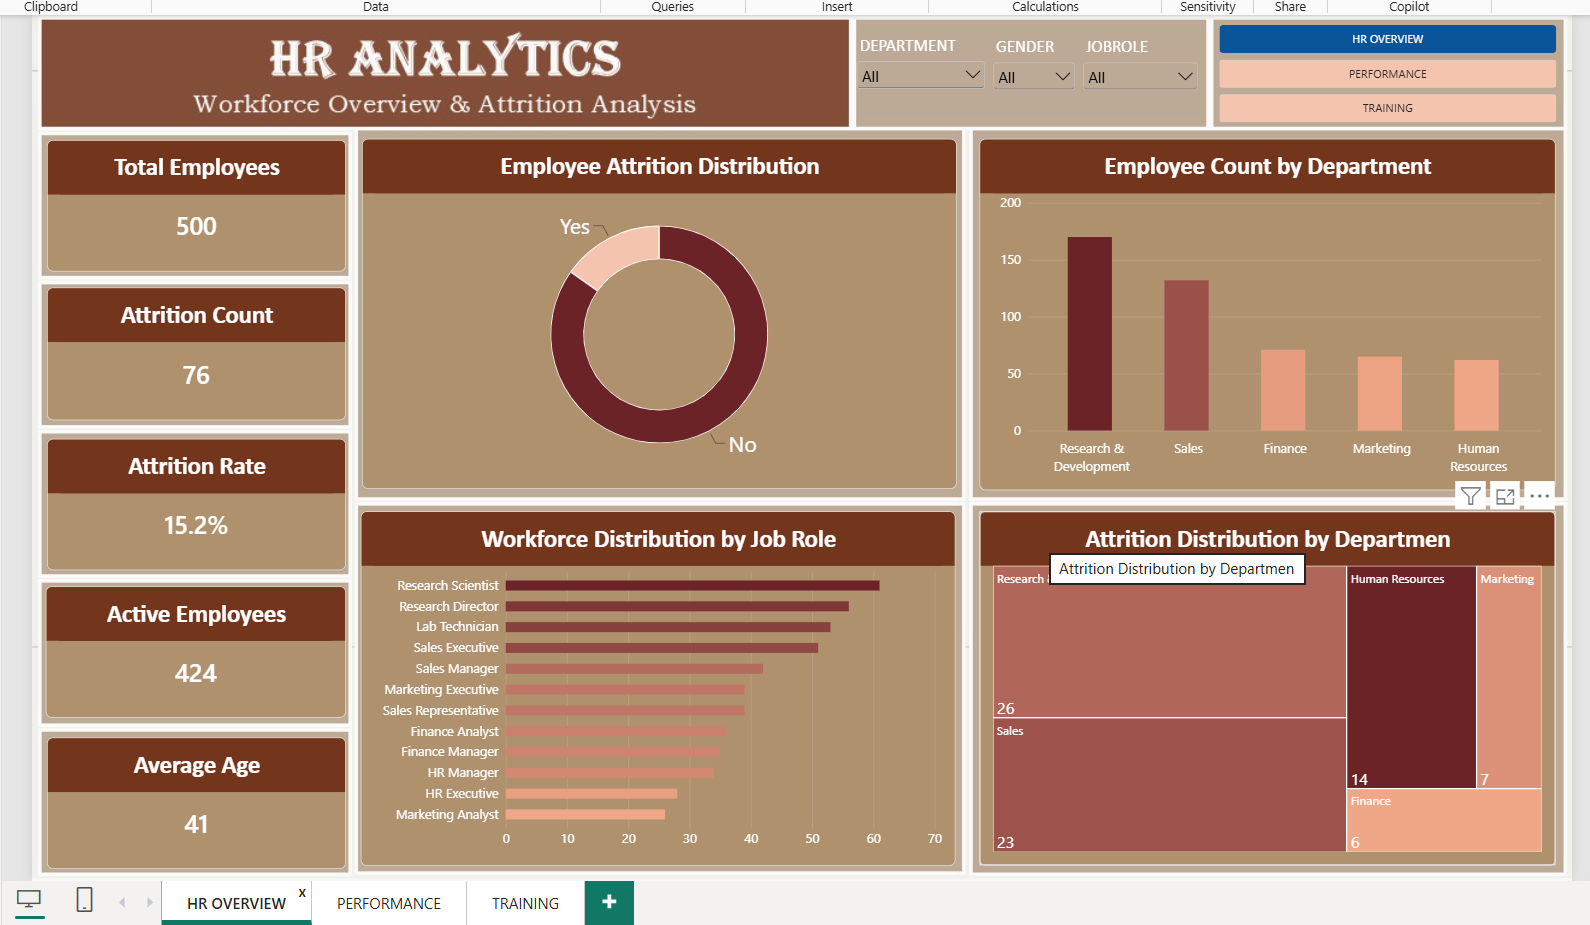

The dashboard page shown, as its layout file describes it:
{"tool":"powerbi","page":{"name":"HR OVERVIEW","canvas":[1920,1080],"ordinal":0},"visuals":[{"type":"card","title":"Total Employees","fields":{"Values":["calculated_table.Total Employees"]},"box":[18.6,155.8,372.6,164.3],"z":0},{"type":"card","title":"Attrition Count","fields":{"Values":["calculated_table.Attrition Count"]},"box":[18.6,340.4,372.6,166],"z":5},{"type":"card","title":"Attrition Rate","fields":{"Values":["calculated_table.Attrition Rate"]},"box":[18.6,528.4,372.6,164.3],"z":6},{"type":"card","title":"Active Employees","fields":{"Values":["calculated_table.Active Employees"]},"box":[16.9,713.1,374.3,164.3],"z":7},{"type":"card","title":"Average Age","fields":{"Values":["calculated_table.Average Age"]},"box":[18.6,901.1,372.6,164.3],"z":8},{"type":"donutChart","title":"Employee Attrition Distribution","fields":{"Category":["Employees_Table.Attrition"],"Y":["CountNonNull(Employees_Table.EmployeeID)"]},"box":[411.6,154.1,741.9,437],"z":9},{"type":"clusteredColumnChart","title":"Employee Count by Department","fields":{"Category":["Employees_Table.Department"],"Y":["CountNonNull(Employees_Table.EmployeeID)"]},"box":[1182.2,154.1,718.1,438.7],"z":10},{"type":"clusteredBarChart","title":"Workforce Distribution by Job Role","fields":{"Category":["Employees_Table.JobRole"],"Y":["CountNonNull(Employees_Table.EmployeeID)"]},"box":[409.9,618.2,741.9,442.1],"z":11},{"type":"treemap","title":"Attrition Distribution by Departmen","fields":{"Group":["Employees_Table.Department"],"Values":["calculated_table.Attrition Count"]},"box":[1182.2,618.2,718.1,442.1],"z":12},{"type":"slicer","fields":{"Values":["Employees_Table.Department"]},"box":[1024.7,25.4,169.4,94.8],"z":13},{"type":"slicer","fields":{"Values":["Employees_Table.Gender"]},"box":[1194.1,27.1,111.8,106.7],"z":14},{"type":"slicer","fields":{"Values":["Employees_Table.JobRole"]},"box":[1305.9,27.1,152.4,94.8],"z":15},{"type":"pageNavigator","box":[1480.3,11.9,420,121.9],"z":16}]}

Visuals, with their boxes on the page's 1920x1080 design canvas (x1, y1, x2, y2). These are canvas units, not pixel positions in the 1590x925 screenshot, which may show the page scaled, cropped or inside an application window:
"Total Employees" card: left=19, top=156, right=391, bottom=320
"Attrition Count" card: left=19, top=340, right=391, bottom=506
"Attrition Rate" card: left=19, top=528, right=391, bottom=693
"Active Employees" card: left=17, top=713, right=391, bottom=877
"Average Age" card: left=19, top=901, right=391, bottom=1065
"Employee Attrition Distribution" donutChart: left=412, top=154, right=1154, bottom=591
"Employee Count by Department" clusteredColumnChart: left=1182, top=154, right=1900, bottom=593
"Workforce Distribution by Job Role" clusteredBarChart: left=410, top=618, right=1152, bottom=1060
"Attrition Distribution by Departmen" treemap: left=1182, top=618, right=1900, bottom=1060
slicer - Employees_Table.Department: left=1025, top=25, right=1194, bottom=120
slicer - Employees_Table.Gender: left=1194, top=27, right=1306, bottom=134
slicer - Employees_Table.JobRole: left=1306, top=27, right=1458, bottom=122
pageNavigator: left=1480, top=12, right=1900, bottom=134
